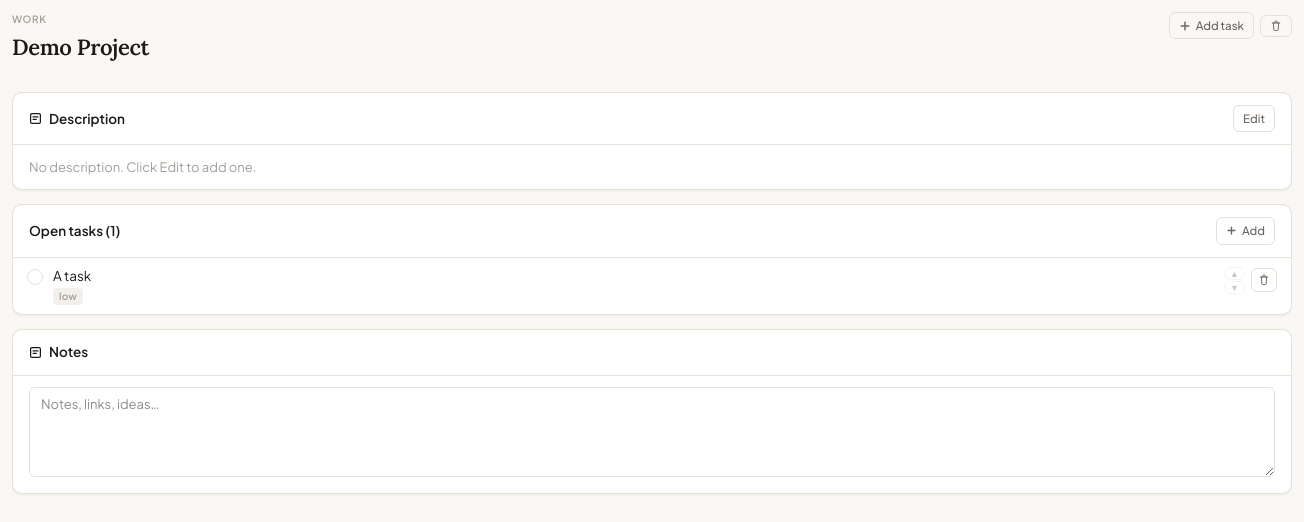
Test case: ProjectView rename › does not save when editing is cancelled with Escape
Click the text titled "Click to rename" at (80, 48), box 12,31 -> 149,64
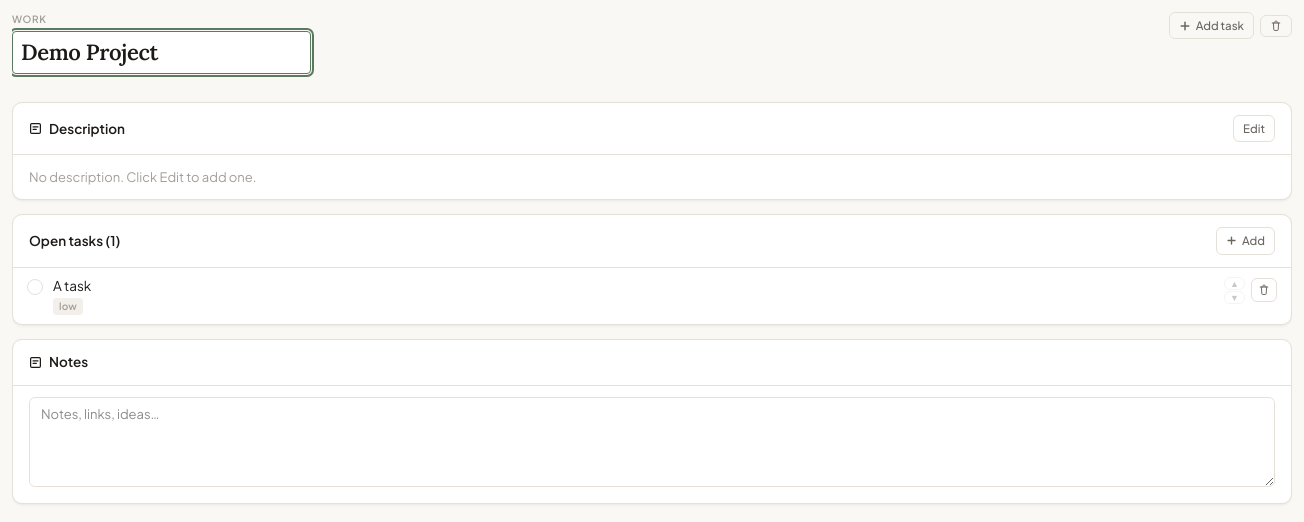
Type " changed" into the field showing "Demo Project" at (162, 52), box 12,31 -> 311,74
Then press Escape
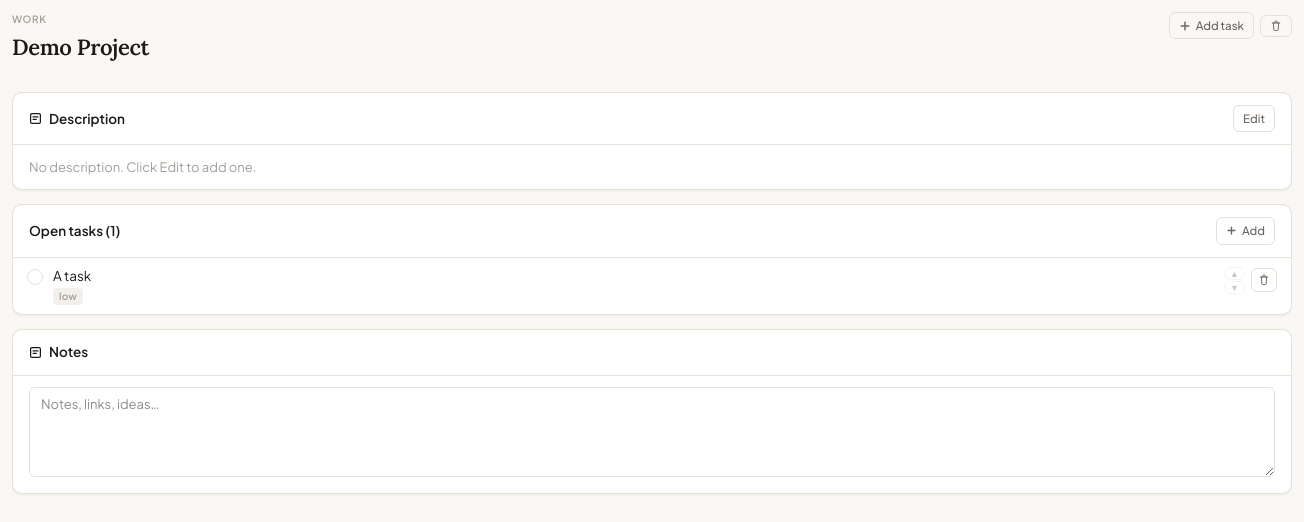
Result: the text "Demo Project" is shown at 12,31 -> 149,64
